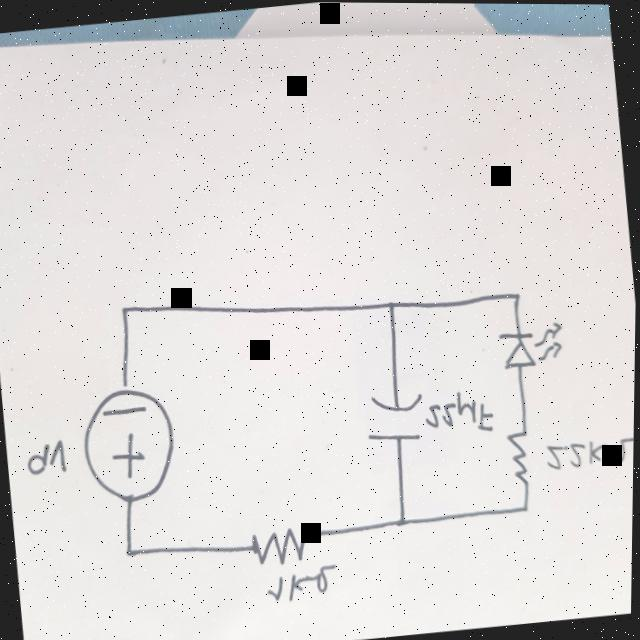capacitor: (363, 385, 426, 447)
diode: (494, 318, 569, 375)
junction: (120, 540, 139, 560), (394, 509, 412, 529), (383, 295, 398, 316), (117, 302, 134, 319), (508, 287, 523, 303), (519, 501, 534, 514)
resistor: (246, 519, 321, 569), (503, 427, 539, 481)
source: (77, 381, 181, 508)
text: (542, 429, 635, 473), (263, 559, 342, 606), (421, 386, 494, 435), (22, 433, 71, 477)
